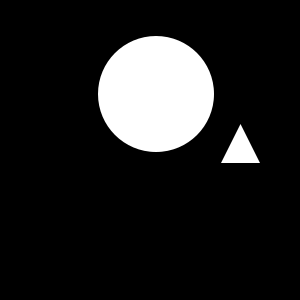rectangle: (98, 36, 214, 152)
triangle: (221, 124, 260, 163)
